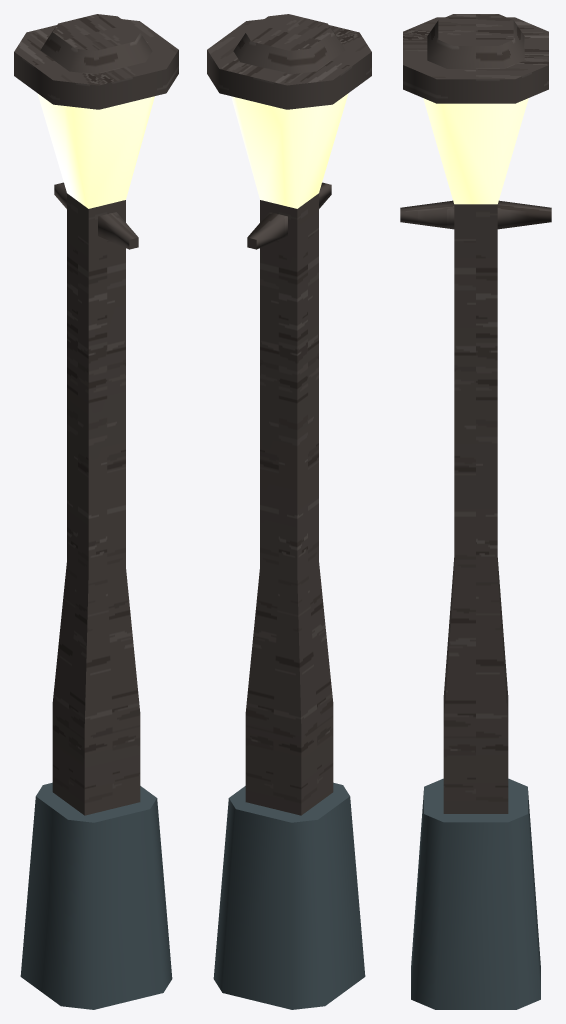
The model's file is lantern.gltf.
3 renders of one model, left to right at view 1: azimuth 30°, elevation 25°; view 2: azimuth 150°, elevation 25°; view 3: azimuth 270°, elevation 25°, orthographic.
Visible parts, largest first — view 1: lantern; view 2: lantern; view 3: lantern.
Part boxes in pixels (x1,y1,x2,y2): lantern: (14,14,178,1009); lantern: (207,14,371,1009); lantern: (400,14,551,1009).
Bounding box in the file's own units: 0.2164 × 1.56 × 0.2243.
Materials: 3 (1 with a texture image).
